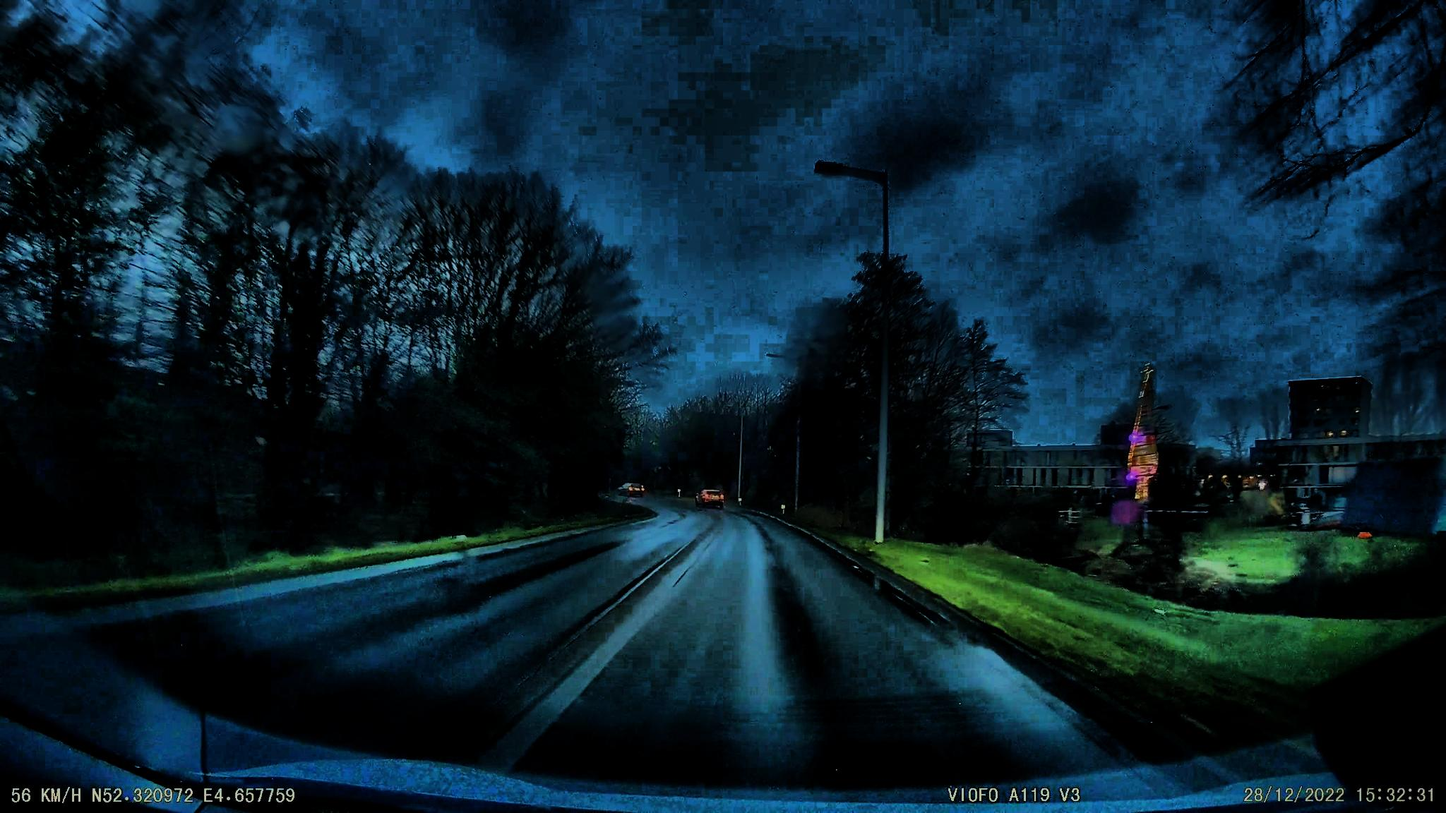Roads: (0, 502, 1342, 813)
